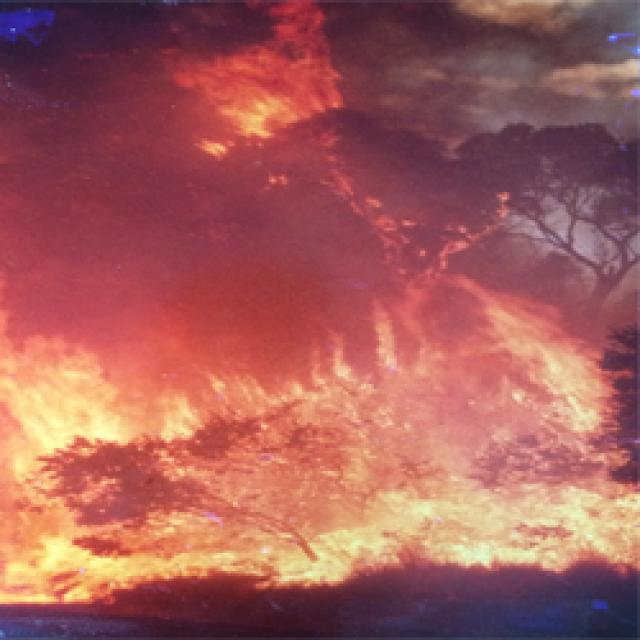Fire: (0, 299, 640, 612), (151, 0, 341, 186), (338, 176, 508, 296)
Smoke: (340, 0, 640, 174), (0, 181, 339, 296), (0, 0, 148, 182), (505, 174, 640, 298)
